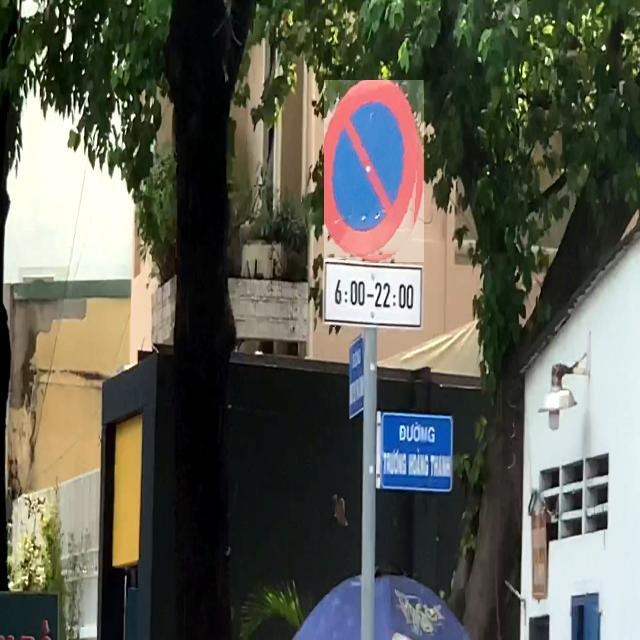P-131a: (324, 80, 424, 262)
